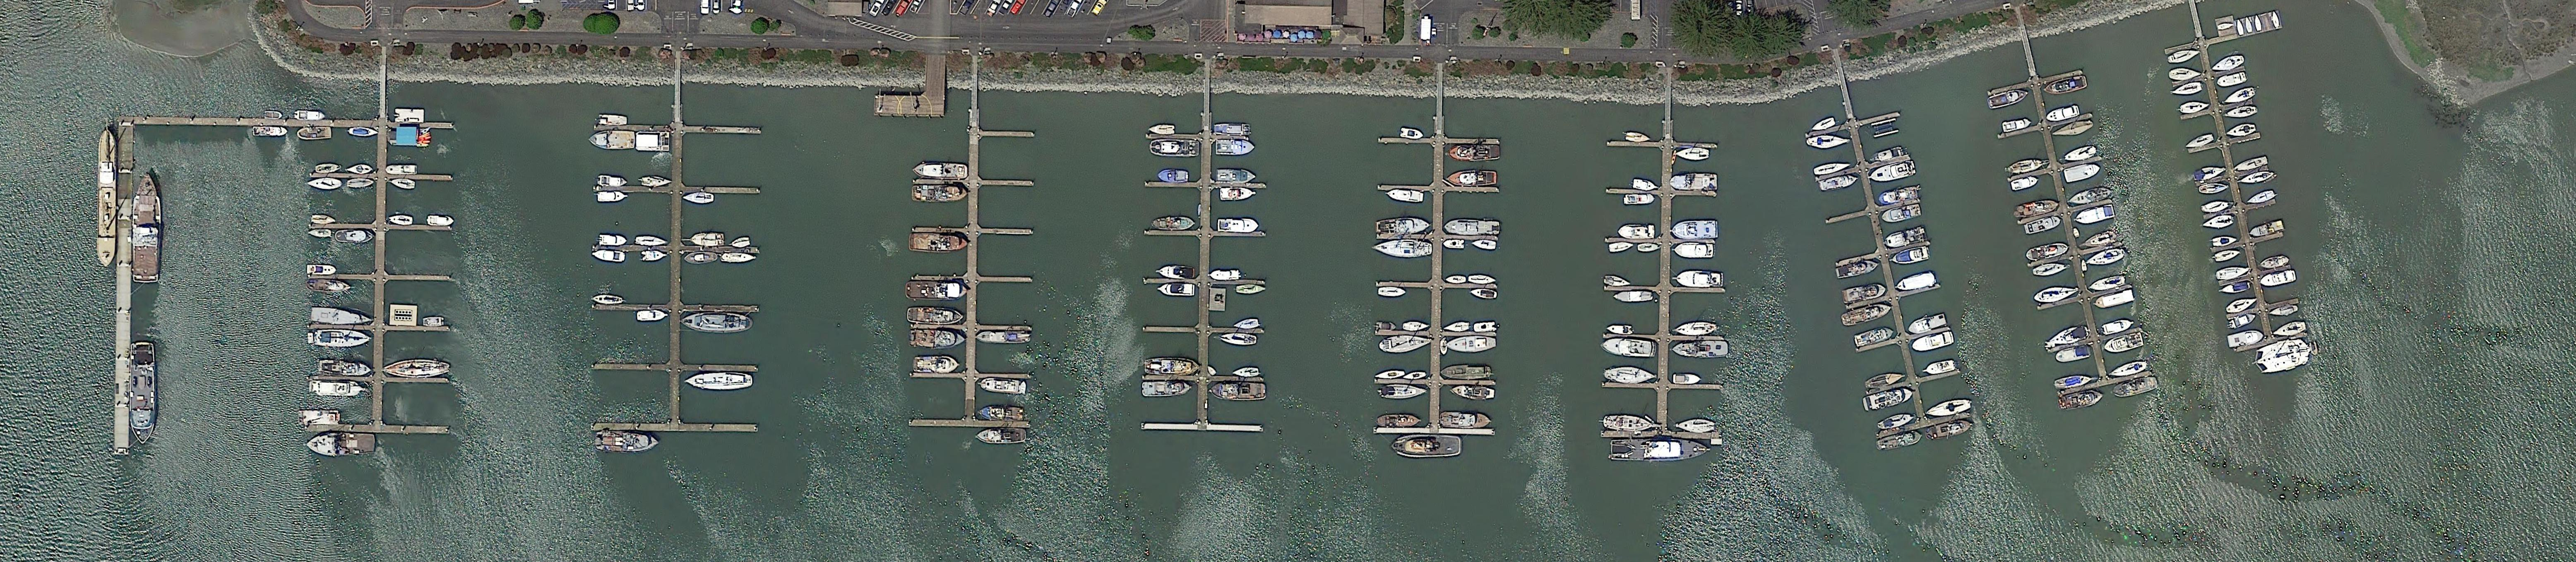harbor: (1976, 11, 2153, 398), (1793, 65, 1972, 440), (591, 83, 769, 432), (2157, 1, 2307, 354), (305, 126, 457, 435), (1144, 86, 1272, 432), (1372, 92, 1502, 436), (1599, 95, 1723, 440), (907, 115, 1033, 427), (113, 115, 134, 450), (875, 55, 947, 115)
ship: (132, 171, 161, 283), (97, 128, 116, 268), (130, 341, 156, 446), (2250, 337, 2314, 378), (1611, 438, 1711, 461), (1391, 434, 1462, 461), (306, 433, 376, 458), (594, 430, 660, 455), (1840, 300, 1894, 329), (1861, 386, 1916, 413), (680, 313, 753, 332), (310, 305, 374, 326), (381, 359, 449, 379), (683, 371, 753, 390), (2056, 387, 2106, 414), (1867, 159, 1916, 185), (2110, 374, 2159, 399), (1379, 333, 1435, 355), (909, 233, 970, 253), (1924, 418, 1974, 442), (307, 329, 375, 347), (1373, 238, 1432, 258), (1600, 337, 1656, 357), (906, 281, 968, 300), (1874, 429, 1923, 452), (1925, 397, 1973, 420), (2043, 74, 2089, 98), (1145, 356, 1200, 376), (587, 129, 636, 151), (1910, 330, 1956, 354), (1603, 364, 1657, 385), (906, 306, 964, 324), (909, 330, 966, 349), (1671, 340, 1729, 358), (1373, 217, 1432, 235), (2031, 284, 2080, 306), (1603, 414, 1661, 432), (1843, 281, 1887, 305), (1834, 258, 1880, 280), (1985, 87, 2029, 110), (2067, 185, 2113, 207), (309, 380, 366, 397), (1853, 325, 1896, 349), (2074, 203, 2115, 227), (1211, 383, 1266, 401), (1444, 219, 1500, 237), (2103, 332, 2145, 356), (2024, 241, 2070, 263), (912, 185, 968, 202), (2050, 118, 2094, 140), (912, 163, 968, 180), (387, 127, 431, 149), (1907, 312, 1947, 336), (2047, 325, 2091, 347), (2062, 161, 2103, 184), (1671, 220, 1718, 240), (2017, 197, 2061, 219), (1151, 139, 1199, 158), (2084, 246, 2127, 269), (319, 359, 373, 376), (1884, 227, 1925, 249), (1894, 272, 1937, 293), (1450, 383, 1495, 403), (1878, 185, 1920, 206), (2107, 359, 2148, 380), (2209, 52, 2247, 75), (1881, 203, 1922, 225), (1889, 245, 1929, 267), (913, 355, 960, 373), (976, 428, 1027, 445), (1448, 144, 1500, 161), (2093, 289, 2135, 310), (1865, 370, 1906, 390), (1448, 335, 1497, 352), (1819, 172, 1859, 193), (634, 130, 671, 153), (1441, 412, 1491, 428), (1670, 174, 1716, 192), (1447, 170, 1497, 187), (2024, 214, 2063, 235), (1675, 271, 1725, 288), (1875, 411, 1915, 431), (1141, 381, 1191, 397), (2227, 328, 2265, 349), (2225, 294, 2259, 316), (1381, 383, 1427, 399), (2166, 46, 2204, 66), (2259, 269, 2297, 289), (2053, 373, 2096, 390), (2223, 85, 2257, 107), (2032, 261, 2071, 280), (2055, 344, 2091, 364), (2005, 157, 2043, 176), (2079, 230, 2117, 250), (2271, 320, 2308, 339), (981, 377, 1022, 394), (1812, 159, 1852, 177), (2193, 163, 2228, 183), (1440, 365, 1491, 379), (2248, 220, 2286, 239), (2088, 274, 2126, 293), (2044, 105, 2080, 124), (976, 331, 1031, 343), (1870, 117, 1901, 139), (1674, 243, 1715, 259), (1386, 187, 1425, 204), (1806, 134, 1850, 149), (979, 407, 1025, 421), (298, 410, 340, 426), (2063, 145, 2098, 163), (305, 279, 352, 293), (1216, 140, 1256, 156), (1675, 321, 1716, 336), (2101, 317, 2135, 336), (2183, 132, 2215, 151), (1869, 146, 1904, 164), (1221, 332, 1258, 348), (1376, 414, 1422, 428), (2201, 213, 2235, 231), (2233, 155, 2268, 173), (2216, 264, 2250, 282), (1618, 225, 1656, 241), (2239, 170, 2274, 187), (2170, 81, 2203, 99), (1216, 168, 1256, 183), (1922, 358, 1956, 376), (1217, 218, 1259, 232), (1677, 418, 1715, 433), (2201, 198, 2235, 215), (1151, 217, 1195, 230), (296, 125, 332, 141), (1158, 264, 1195, 280), (2230, 311, 2258, 331), (2223, 104, 2258, 120), (2225, 122, 2257, 139), (335, 229, 375, 243), (2216, 72, 2248, 88), (393, 107, 425, 124), (1158, 283, 1196, 298), (1218, 188, 1257, 201), (1602, 273, 1632, 290), (683, 250, 718, 265), (2247, 189, 2276, 206), (2011, 175, 2040, 192), (2002, 117, 2033, 134), (592, 249, 626, 264), (2268, 304, 2300, 319), (1675, 147, 1710, 162), (1612, 291, 1654, 303), (2168, 67, 2203, 81), (2259, 255, 2291, 270), (690, 232, 724, 246), (2180, 100, 2212, 115), (2221, 280, 2252, 296), (307, 177, 343, 189), (1810, 116, 1837, 133), (2214, 248, 2242, 263), (1159, 169, 1188, 183), (1632, 178, 1660, 193), (1215, 123, 1250, 135), (1608, 239, 1635, 255), (721, 253, 757, 264), (252, 126, 288, 137), (1399, 127, 1425, 141), (390, 176, 416, 191), (682, 192, 715, 204), (636, 310, 670, 322), (634, 236, 669, 247), (2199, 182, 2230, 195), (592, 294, 623, 306), (1234, 316, 1260, 330), (1378, 286, 1408, 298), (1375, 369, 1406, 380), (641, 175, 673, 187), (598, 175, 629, 187), (598, 191, 629, 202), (386, 164, 417, 175), (1210, 269, 1240, 281), (426, 215, 455, 226), (1624, 194, 1656, 205), (1469, 288, 1497, 300), (599, 115, 629, 126), (2212, 235, 2238, 248), (600, 234, 627, 246), (1672, 373, 1702, 385), (306, 264, 337, 275), (295, 110, 325, 120), (1607, 324, 1634, 336), (1472, 238, 1497, 251), (348, 127, 379, 137), (1468, 275, 1497, 285), (1149, 124, 1175, 135), (1625, 131, 1651, 143), (1402, 321, 1430, 332), (346, 178, 374, 189), (1443, 321, 1470, 332), (1402, 370, 1427, 381), (1235, 285, 1266, 294), (642, 251, 668, 262), (315, 163, 341, 173), (312, 214, 337, 225), (388, 215, 413, 225), (731, 236, 751, 249), (1233, 367, 1259, 377), (347, 164, 373, 174), (307, 228, 332, 238), (1473, 322, 1496, 332), (1637, 243, 1663, 252), (422, 317, 444, 327), (1443, 239, 1464, 249), (1444, 275, 1466, 284), (1376, 321, 1396, 331), (264, 111, 284, 120), (1206, 364, 1218, 378), (2217, 22, 2236, 31), (2244, 17, 2254, 34), (2271, 11, 2280, 29), (2236, 19, 2245, 36), (2253, 15, 2263, 32), (1440, 339, 1447, 356)
